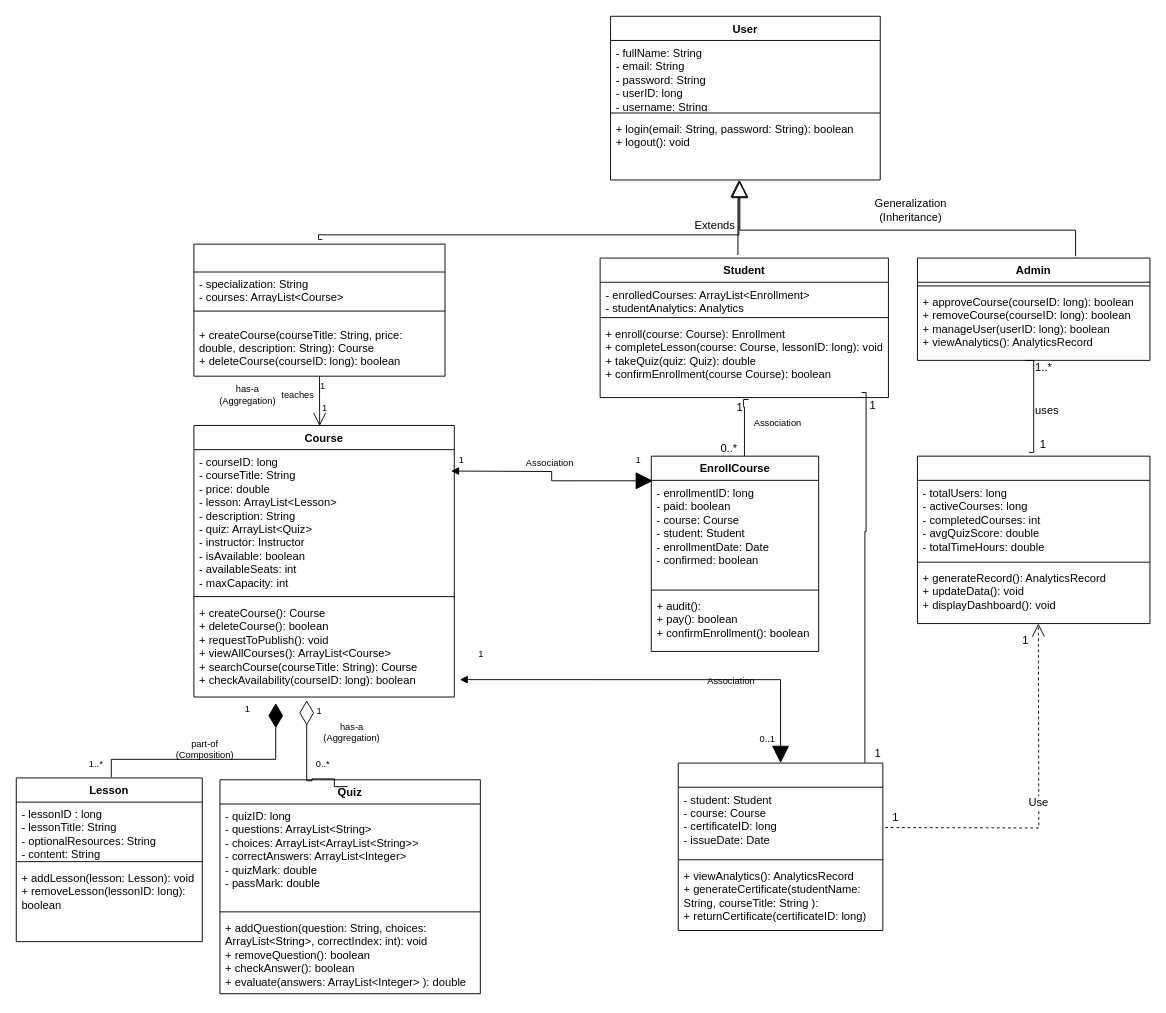
Image size: 1166x1013. Some labels were removed from this diagram. The shapes that lost their labels are listed below. From the top down, each one's box as (x1, y1, x2, y2) in pixels, then its label:
(193, 243, 445, 376): Instructor
(917, 455, 1150, 624): MonitorAnalytics
(677, 762, 883, 930): CertificateManager
